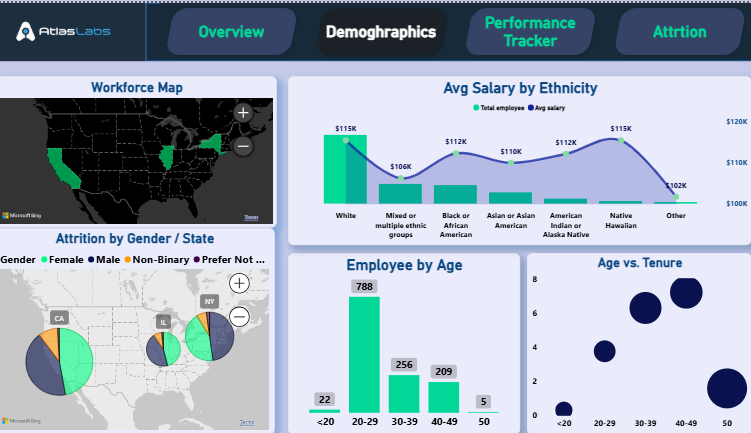

The dashboard page shown, as its layout file describes it:
{"tool":"powerbi","page":{"name":"Demoghraphics","canvas":[1280,720],"ordinal":1},"visuals":[{"type":"image","box":[0,0,253.3,96.7],"z":0},{"type":"shape","box":[253.3,0,1026.7,96.7],"z":500},{"type":"pageNavigator","box":[276.7,0,986.7,95],"z":1000},{"type":"actionButton","box":[1055,18.3,176.7,76.7],"z":2000},{"type":"actionButton","box":[813.3,18.3,176.7,76.7],"z":3000},{"type":"actionButton","box":[313.3,18.3,176.7,76.7],"z":4000},{"type":"filledMap","title":"Workforce Map","fields":{"Category":["DimEmployee.State"]},"box":[3.3,121.7,468.3,253.3],"z":5000},{"type":"clusteredColumnChart","title":"Employee by Age ","fields":{"Category":["DimEmployee.Age catagory"],"Y":["___MEASURES.Total employee"]},"box":[490,416.7,386.7,303.3],"z":6000},{"type":"lineStackedColumnComboChart","title":" Avg Salary by Ethnicity","fields":{"Y":["___MEASURES.Total employee"],"Category":["DimEmployee.Ethnicity"],"Y2":["___MEASURES.Avg salary"]},"box":[490,121.7,773.3,281.7],"z":7000},{"type":"map","title":"Attrition by Gender / State","fields":{"Category":["DimEmployee.State"],"Series":["DimEmployee.Gender"],"Size":["CountNonNull(DimEmployee.Attrition)"]},"box":[0,375,468.3,345],"z":8000},{"type":"scatterChart","title":"Age vs. Tenure","fields":{"X":["DimEmployee.Age catagory"],"Size":["___MEASURES.Avg salary"],"Y":["___MEASURES.AVG Tenure"]},"box":[888.3,416.7,375,303.3],"z":9000}]}

Visuals, with their boxes in screenshot pixels (x1, y1, x2, y2), scaled from the page's 1280x720 canvas onto the 751x433 screenshot:
image: bbox(0, 0, 149, 58)
shape: bbox(149, 0, 750, 58)
pageNavigator: bbox(162, 0, 741, 57)
actionButton: bbox(619, 11, 723, 57)
actionButton: bbox(477, 11, 581, 57)
actionButton: bbox(184, 11, 287, 57)
"Workforce Map" filledMap: bbox(2, 73, 277, 226)
"Employee by Age " clusteredColumnChart: bbox(287, 251, 514, 432)
" Avg Salary by Ethnicity" lineStackedColumnComboChart: bbox(287, 73, 741, 243)
"Attrition by Gender / State" map: bbox(0, 226, 275, 432)
"Age vs. Tenure" scatterChart: bbox(521, 251, 741, 432)
